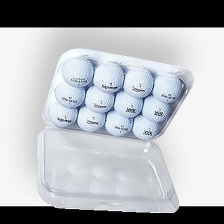plastic_box: (27, 43, 199, 219)
